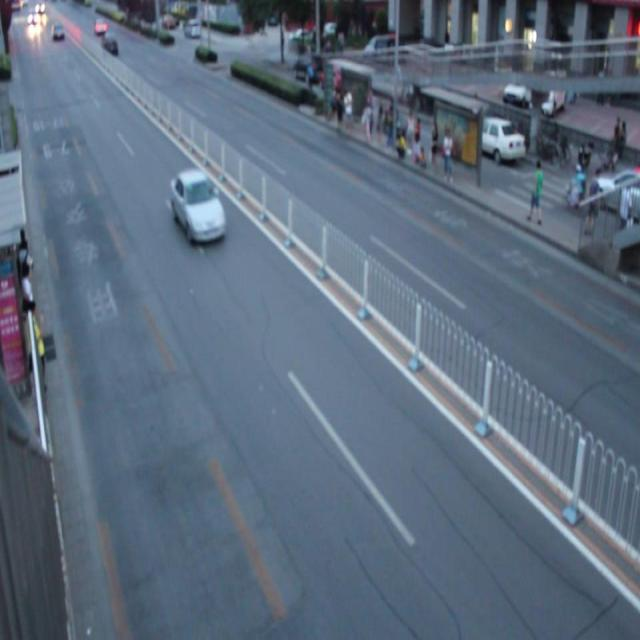car: (169, 166, 227, 244)
